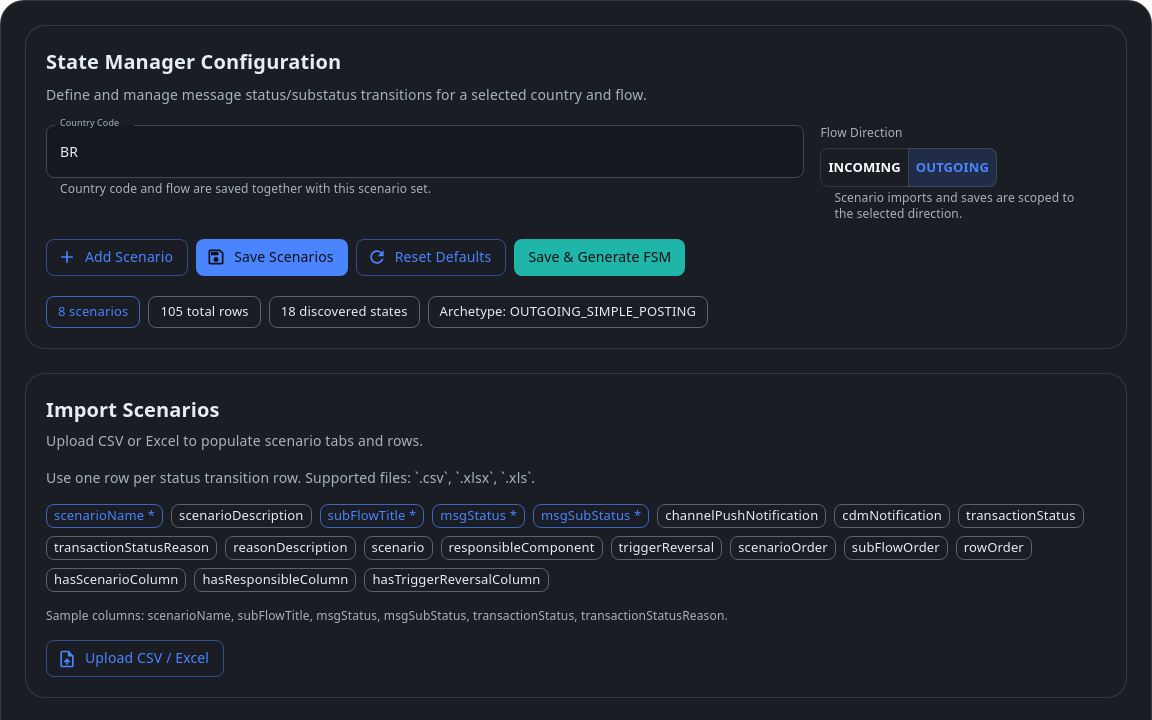
it: StateManagerPanel › shows preview archetype and warning counts in the generate dialog
Step 1. Click the button "Save & Generate FSM" → [600, 257], box x1=514 y1=239 x2=685 y2=276
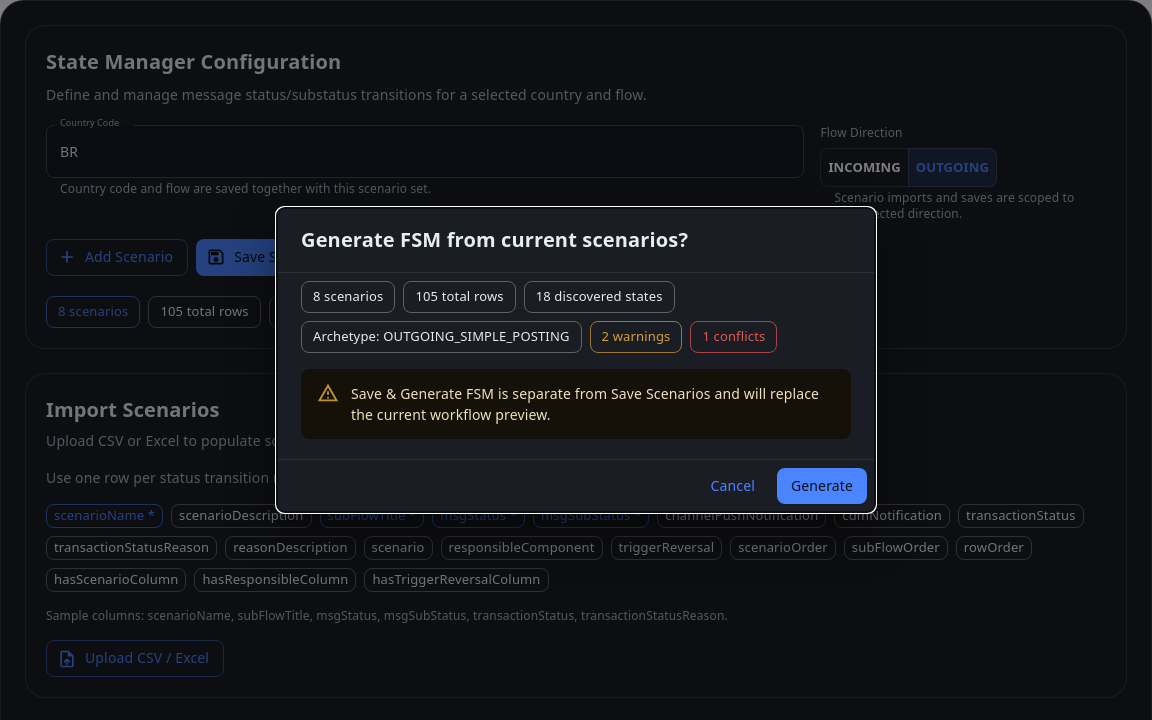
Expected: the dialog is shown, x1=276 y1=207 x2=876 y2=513
Expected: the text "2 warnings" is shown, x1=602 y1=327 x2=670 y2=345
Expected: the text "1 conflicts" is shown, x1=702 y1=327 x2=765 y2=345
